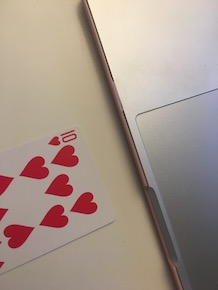TenOfHearts: (1, 120, 118, 275)
